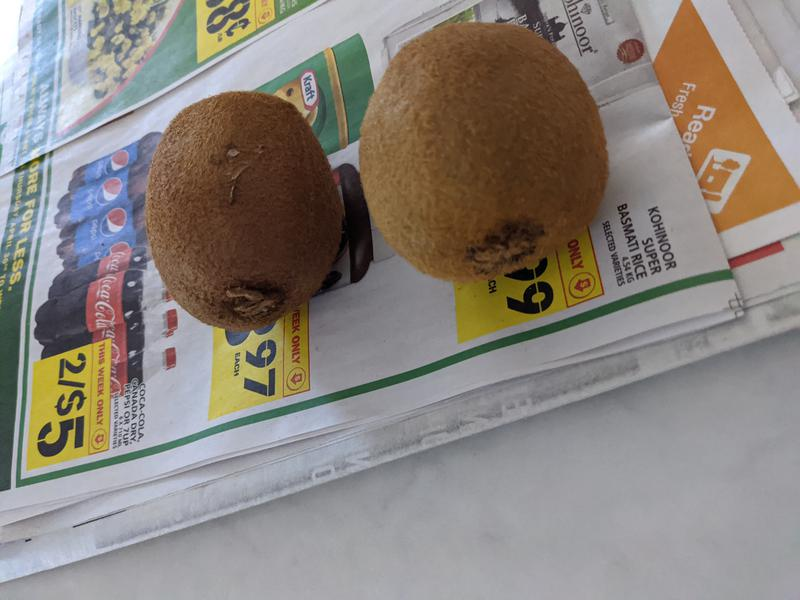kiwi: (358, 20, 611, 282), (146, 91, 345, 332)
